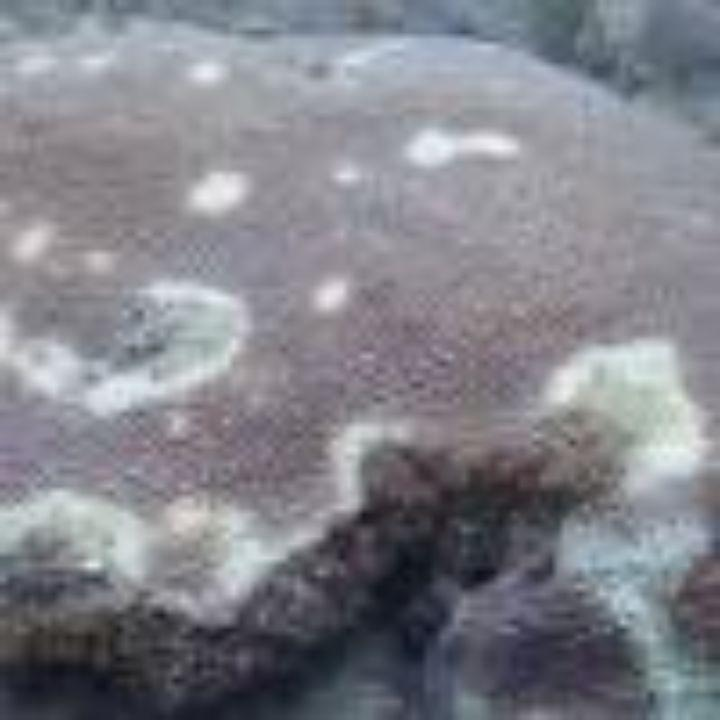White Pox Disease: (31, 160, 653, 617)
